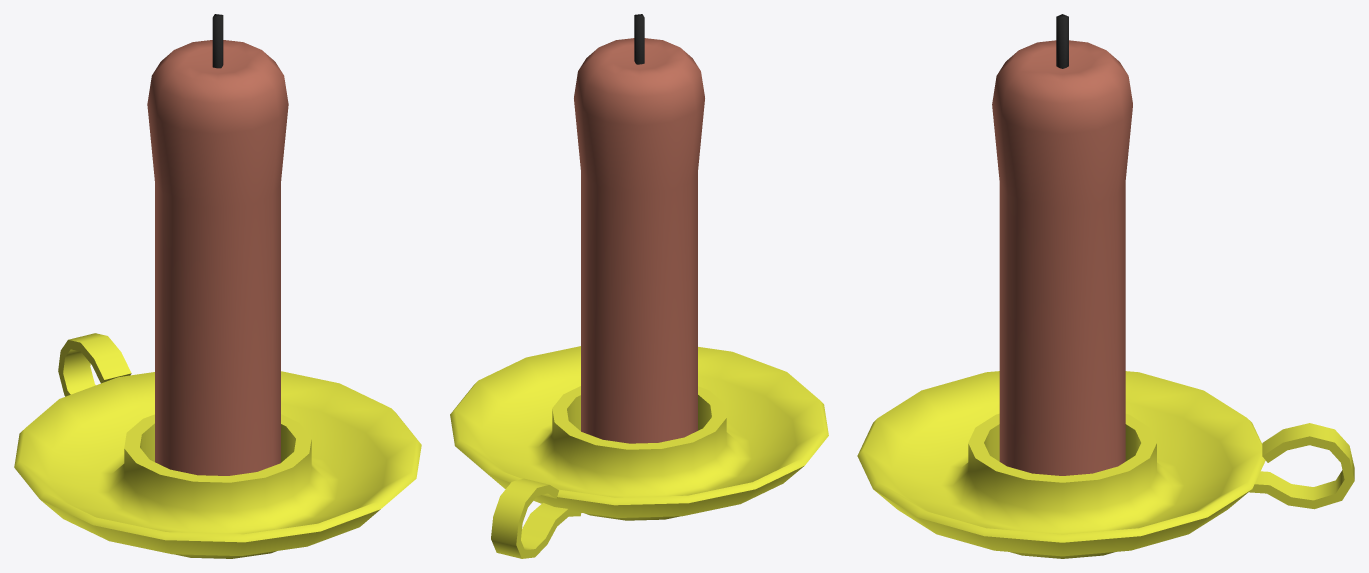
The model's file is Candle_Single_01.FBX.
3 views of the same model, side by side, from view 1: azimuth 30°, elevation 25°; view 2: azimuth 150°, elevation 25°; view 3: azimuth 270°, elevation 25° (orthographic). The views are drawn at different scales.
Visible parts, largest first — view 1: Candle_Single_01; view 2: Candle_Single_01; view 3: Candle_Single_01.
Boxes of the visible parts, bbox=[...] form: Candle_Single_01: bbox=[14, 14, 421, 558]; Candle_Single_01: bbox=[450, 14, 828, 558]; Candle_Single_01: bbox=[857, 14, 1354, 558].
Size of the model in its own units: 0.1956 by 0.2616 by 0.237.
